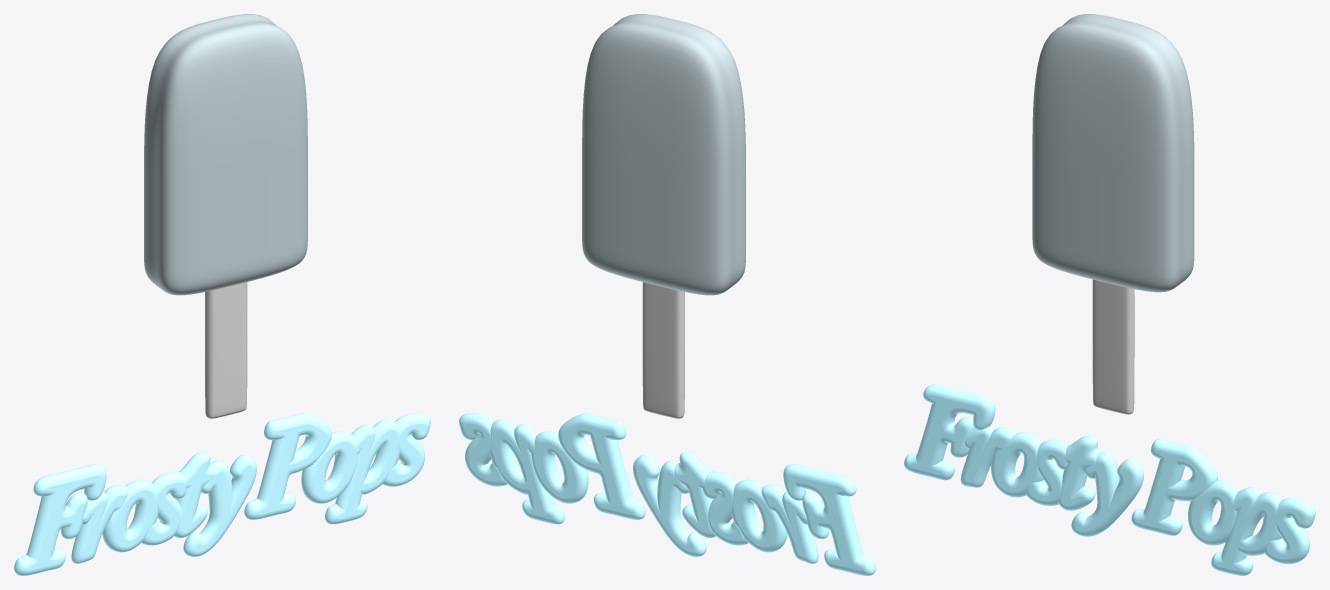
3 views of the same model, side by side, from view 1: azimuth 30°, elevation 25°; view 2: azimuth 150°, elevation 25°; view 3: azimuth 330°, elevation 25° (orthographic).
Visible parts, largest first — view 1: Popsicle; view 2: Popsicle; view 3: Popsicle.
Boxes of the visible parts, x1,y1,x2,y2 form: Popsicle: (14,14,430,575); Popsicle: (459,14,875,575); Popsicle: (904,14,1315,575).
Size of the model in its own units: 1.81 by 2.2 by 0.25.
